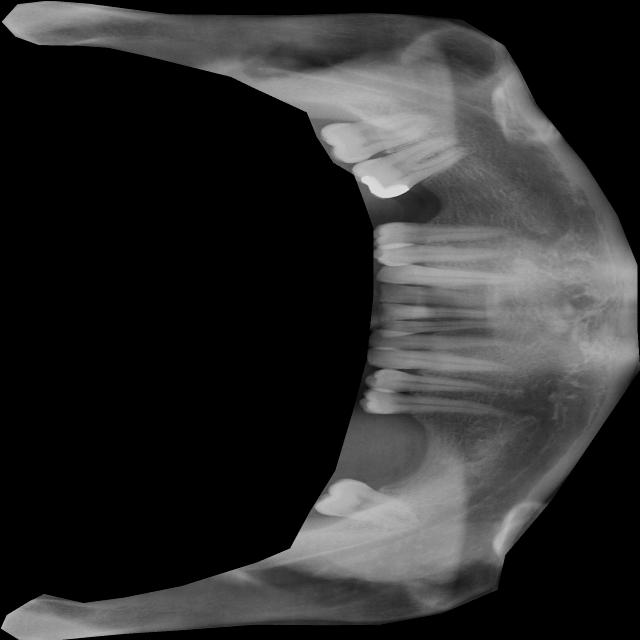mandibula: (0, 0, 640, 640)
